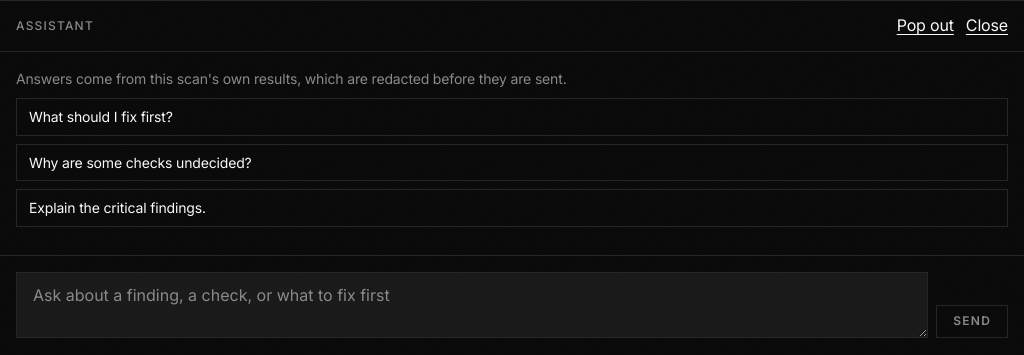
Test: Assistant › sends the question and shows the answer
Type "what first?" into the text box named "ask about this scan" at (472, 305), box 16,272 -> 928,338
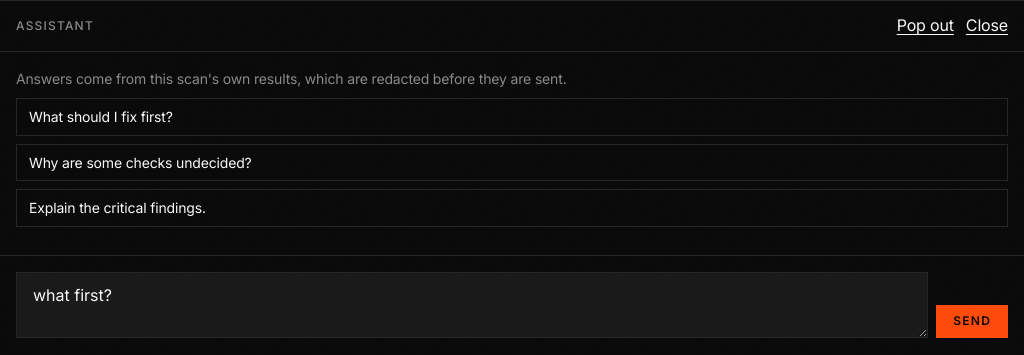
Click the button "Send" at (972, 322), box 936,305 -> 1008,338
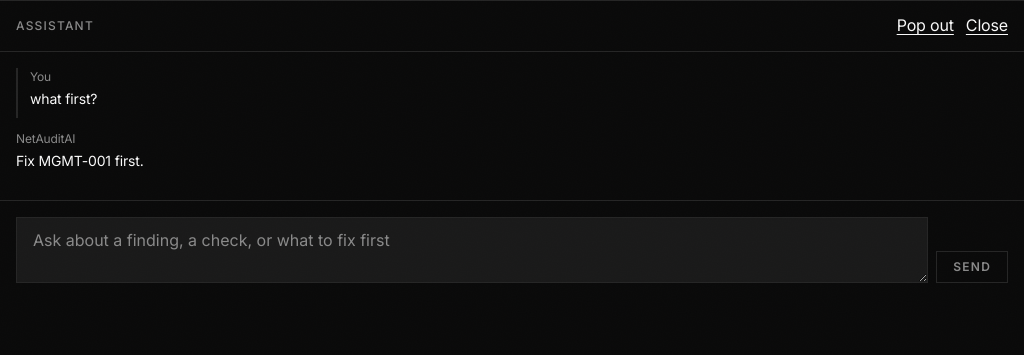
Now the text "Fix MGMT-001 first." is shown, box 16,152 -> 144,170
